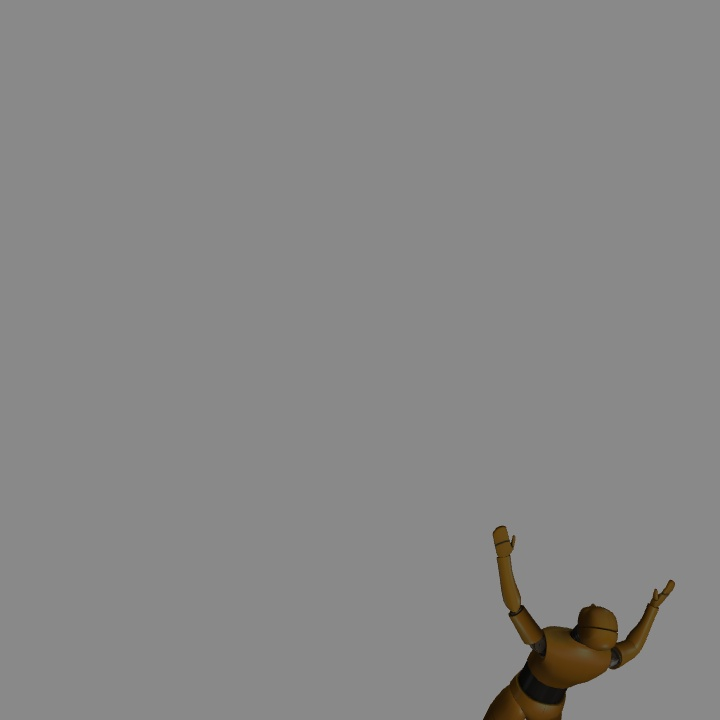victim: (478, 525, 679, 720)
